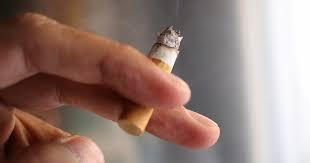smoke: (118, 25, 184, 137)
